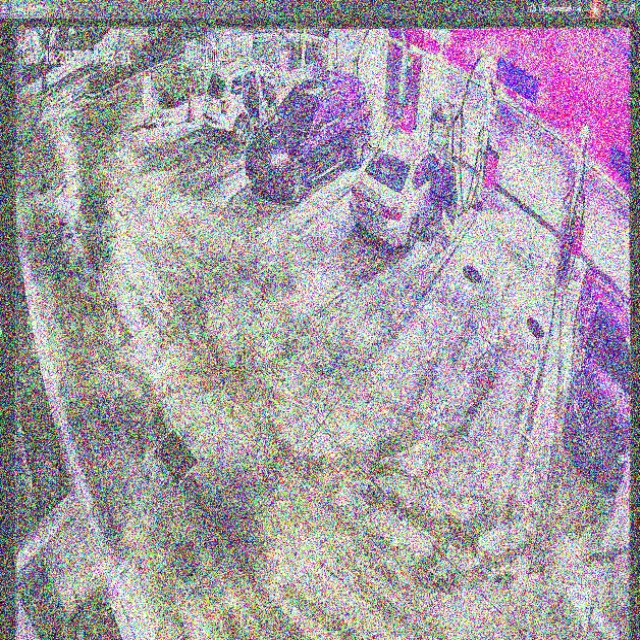Car: (245, 72, 373, 202), (349, 134, 457, 249), (203, 60, 292, 145)
